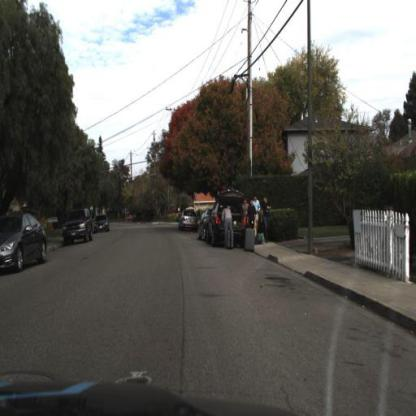car: (1, 209, 49, 276), (210, 192, 247, 243), (61, 204, 96, 245), (242, 192, 252, 224)
pedestrian: (223, 206, 239, 249), (261, 196, 272, 239), (246, 195, 257, 232), (252, 192, 260, 239), (246, 198, 257, 231)
